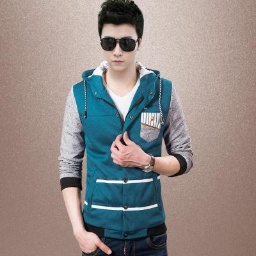face: (97, 1, 145, 73)
